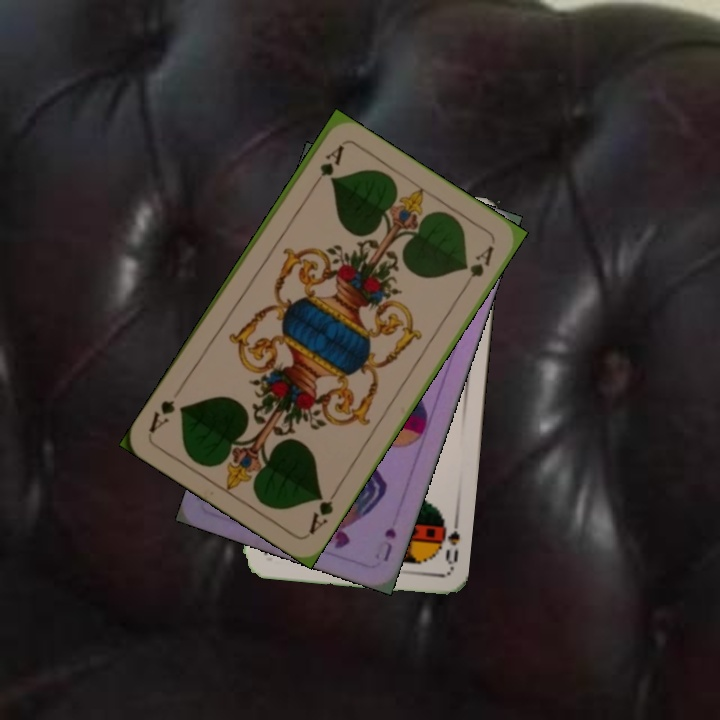GA: (306, 141, 347, 193), (304, 483, 341, 538)
SO: (435, 510, 463, 570)
SU: (374, 524, 399, 565)
